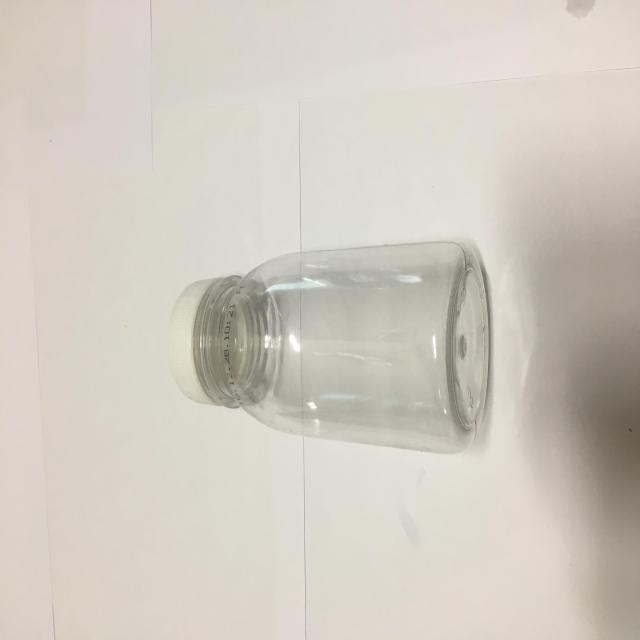bottle: (157, 241, 496, 454)
